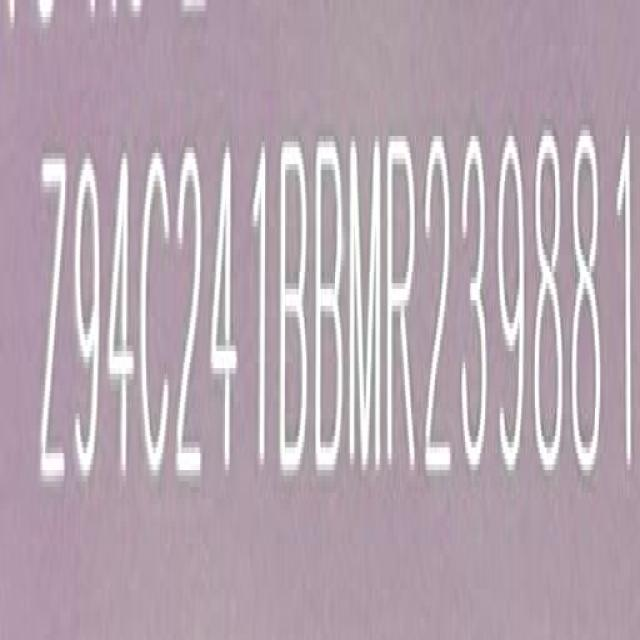1: (250, 137, 273, 490), (614, 121, 636, 487)
2: (177, 144, 209, 498), (424, 136, 456, 486)
3: (461, 137, 491, 484)
4: (209, 140, 241, 497), (108, 148, 138, 496)
8: (571, 122, 604, 484), (534, 126, 567, 480)
9: (496, 134, 528, 483), (72, 151, 102, 498)
B: (276, 135, 310, 484), (314, 132, 346, 483)
C: (141, 147, 175, 496)
M: (349, 137, 381, 484)
R: (386, 133, 421, 483)
Z: (40, 152, 70, 505)
